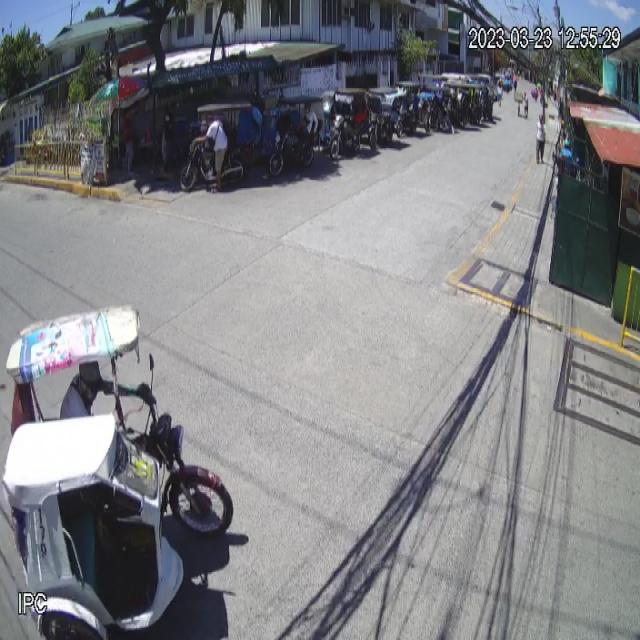Tricycle: (0, 304, 238, 639)
